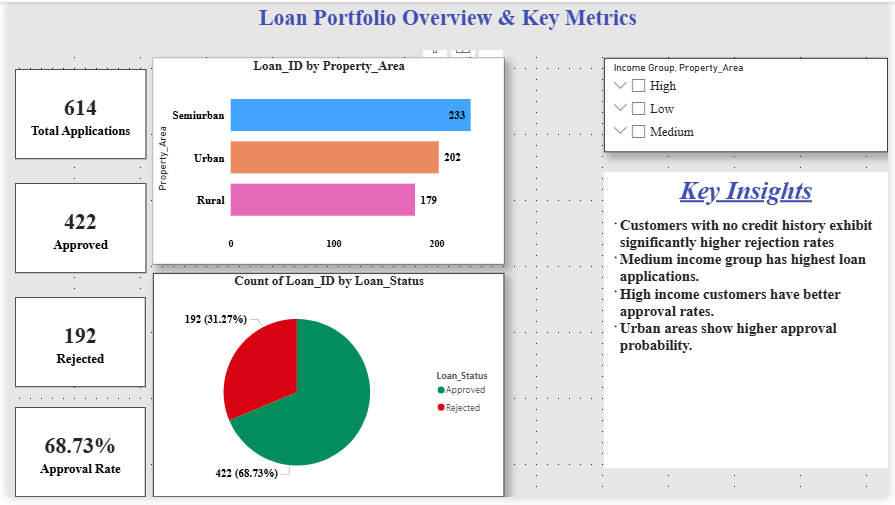

The dashboard page shown, as its layout file describes it:
{"tool":"powerbi","page":{"name":"Overview","canvas":[1280,720],"ordinal":0},"visuals":[{"type":"card","fields":{"Values":["Loan_cleaned_File.Total Applications"]},"box":[10.2,97.5,190.5,130.9],"z":0},{"type":"card","fields":{"Values":["Loan_cleaned_File.Approved"]},"box":[10.2,263.3,190.5,130.9],"z":1000},{"type":"card","fields":{"Values":["Loan_cleaned_File.Rejected"]},"box":[10.2,429.1,190,130.9],"z":2000},{"type":"card","fields":{"Values":["Loan_cleaned_File.Approval Rate"]},"box":[10.2,589.1,190,130.9],"z":3000},{"type":"pieChart","fields":{"Category":["Loan_cleaned_File.Loan_Status"],"Y":["CountNonNull(Loan_cleaned_File.Loan_ID)"]},"box":[210.9,394.2,510.5,325.8],"z":4000},{"type":"clusteredBarChart","title":"Loan_ID by Property_Area","fields":{"Y":["CountNonNull(Loan_cleaned_File.Loan_ID)"],"Category":["Loan_cleaned_File.Property_Area"]},"box":[210.9,81.5,510.5,299.6],"z":5000},{"type":"slicer","fields":{"Values":["Loan_cleaned_File.Income Group","Loan_cleaned_File.Property_Area"]},"box":[866.9,81.5,413.1,136.7],"z":6000},{"type":"textbox","box":[0,0,1280,69.8],"z":7000},{"type":"textbox","box":[866.9,247.3,413.1,430.5],"z":7001}]}

Visuals, with their boxes in screenshot pixels (x1, y1, x2, y2), scaled from the page's 1280x720 canvas onto the 895x505 screenshot:
card - Loan_cleaned_File.Total Applications: 7:68:140:160
card - Loan_cleaned_File.Approved: 7:185:140:276
card - Loan_cleaned_File.Rejected: 7:301:140:393
card - Loan_cleaned_File.Approval Rate: 7:413:140:504
pieChart - Loan_cleaned_File.Loan_Status x CountNonNull(Loan_cleaned_File.Loan_ID): 147:276:504:504
"Loan_ID by Property_Area" clusteredBarChart: 147:57:504:267
slicer - Loan_cleaned_File.Income Group x Loan_cleaned_File.Property_Area: 606:57:894:153
textbox: 0:0:894:49
textbox: 606:173:894:475
